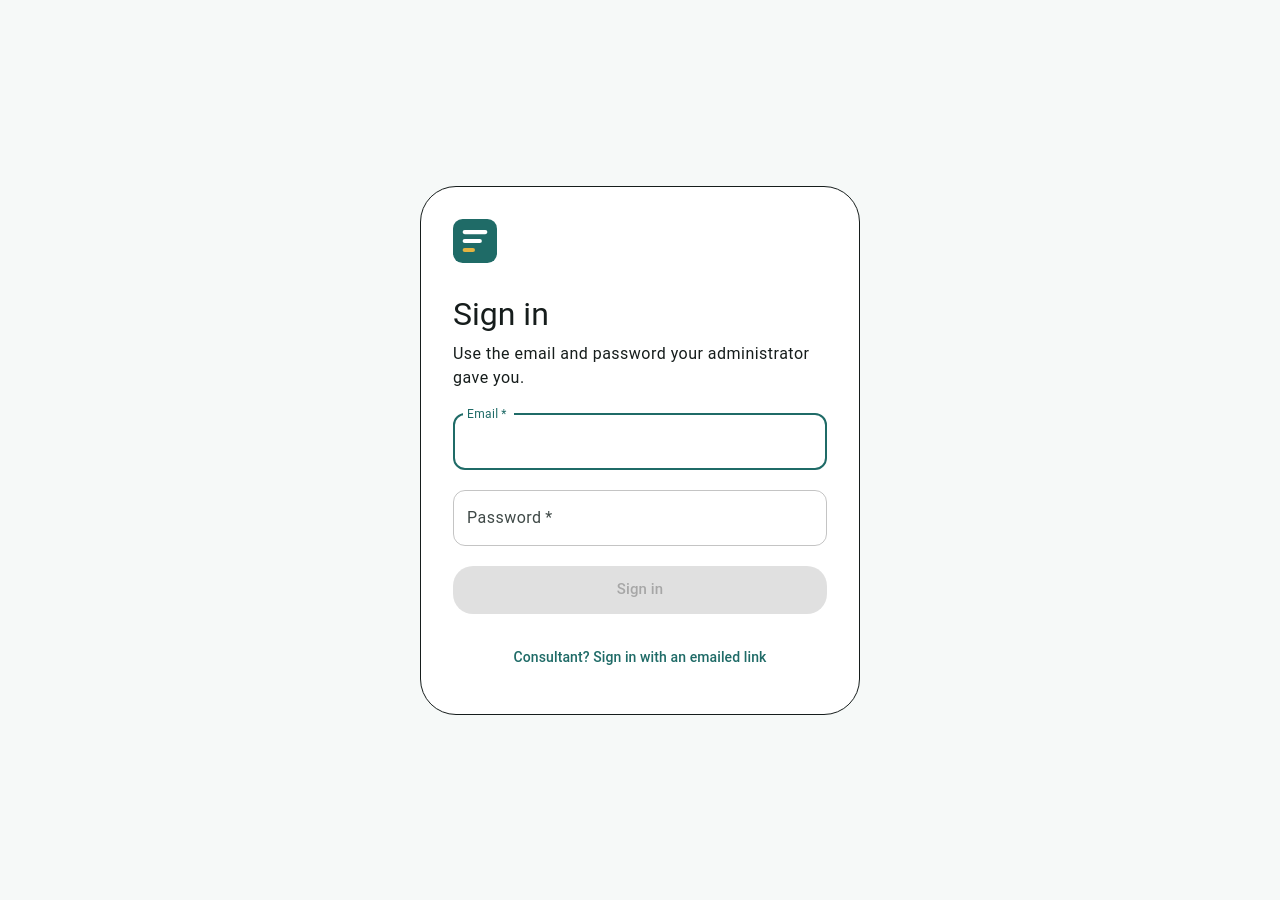
Test case: signing in › signs in with password then code, lands on the page asked for, and then sends the CSRF token on changes
Expected: the heading "Sign in" is shown, [453, 294, 549, 332]
Type "asha@firm.in" into the field labelled "Email *".
click(640, 442); type("asha@firm.in")  # box [453, 414, 827, 470]
Type "a long passphrase" into the password field labelled "Password *".
click(640, 518); type("a long passphrase")  # box [453, 490, 827, 546]
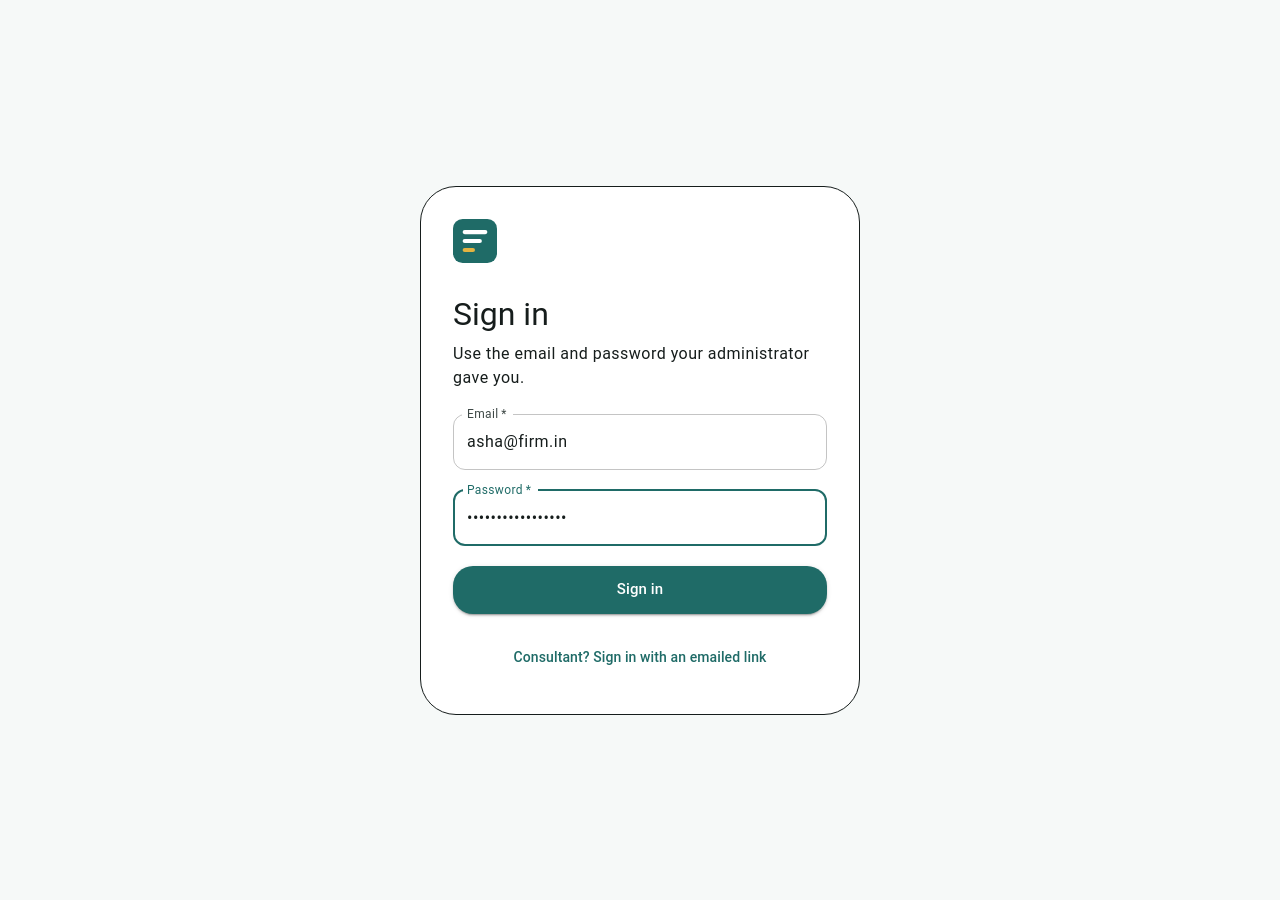
Click the button "Sign in".
click(640, 590)  # box [453, 566, 827, 614]
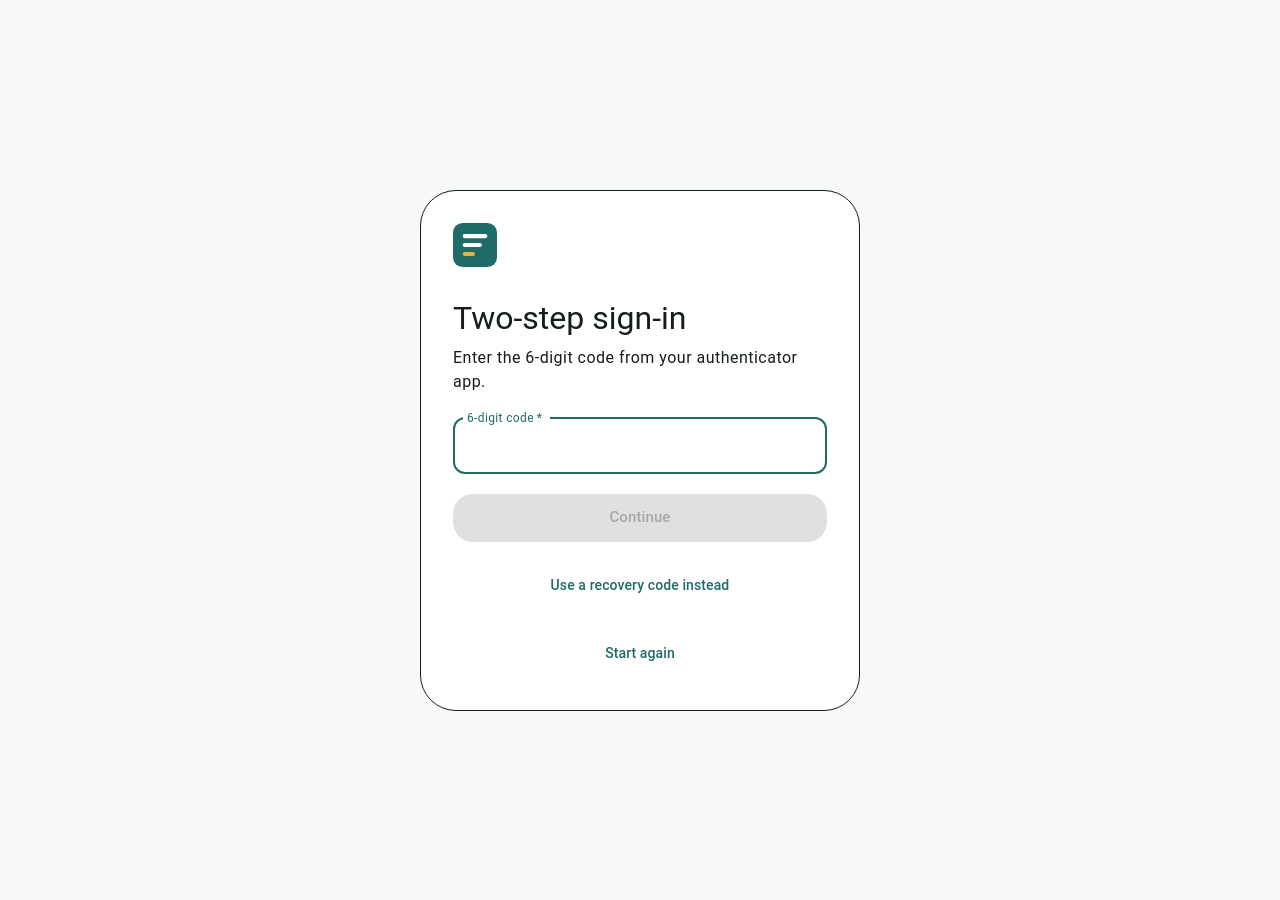
Result: the heading "Two-step sign-in" is shown at [453, 298, 686, 336]
Type "123456" into the field labelled "6-digit code *".
click(640, 446); type("123456")  # box [453, 418, 827, 474]
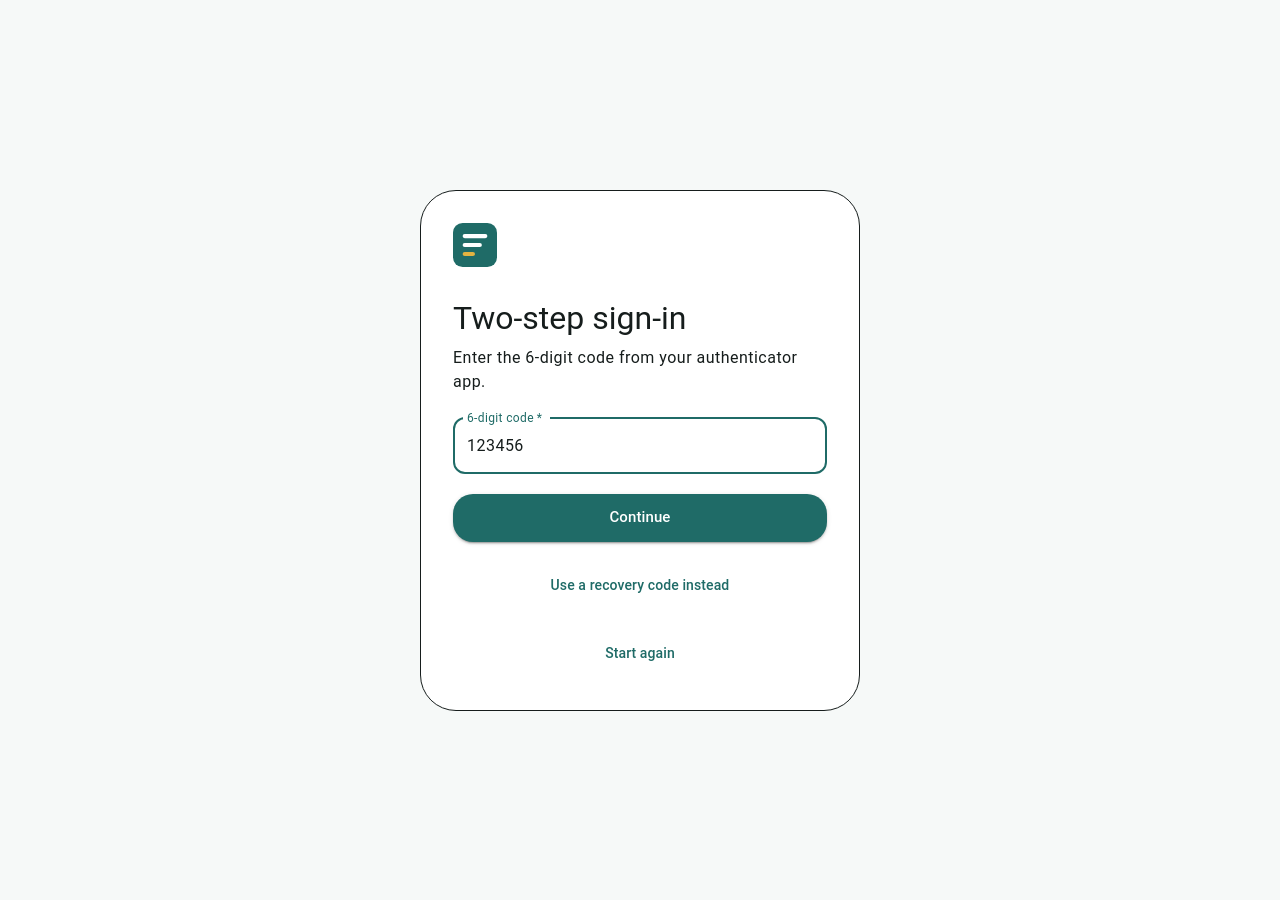
Click the button "Continue".
click(640, 518)  # box [453, 494, 827, 542]
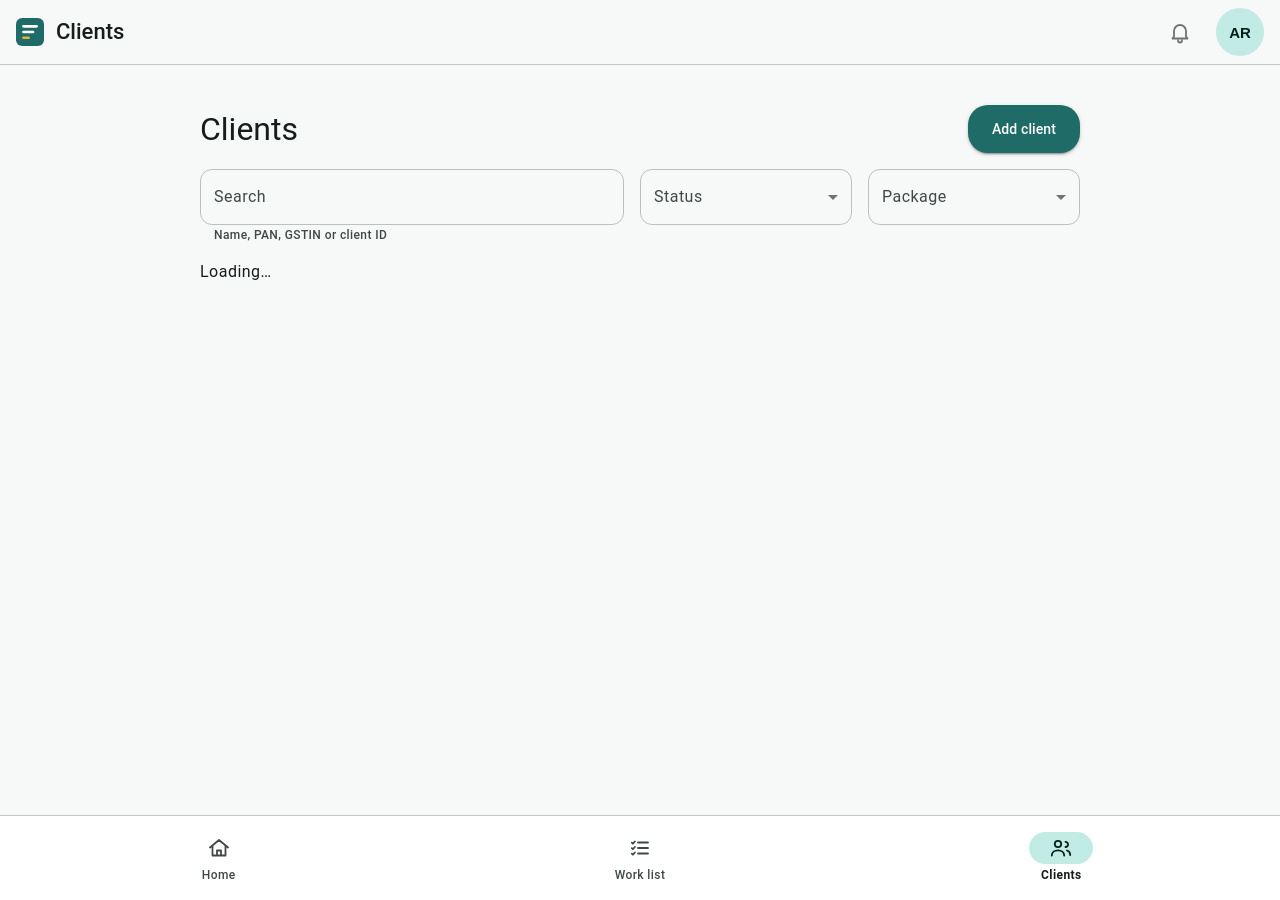
Result: the link "Add client" is shown at [968, 105, 1080, 153]
Click the button with aria-label "account menu for asha rao".
click(1240, 32)  # box [1216, 8, 1264, 56]
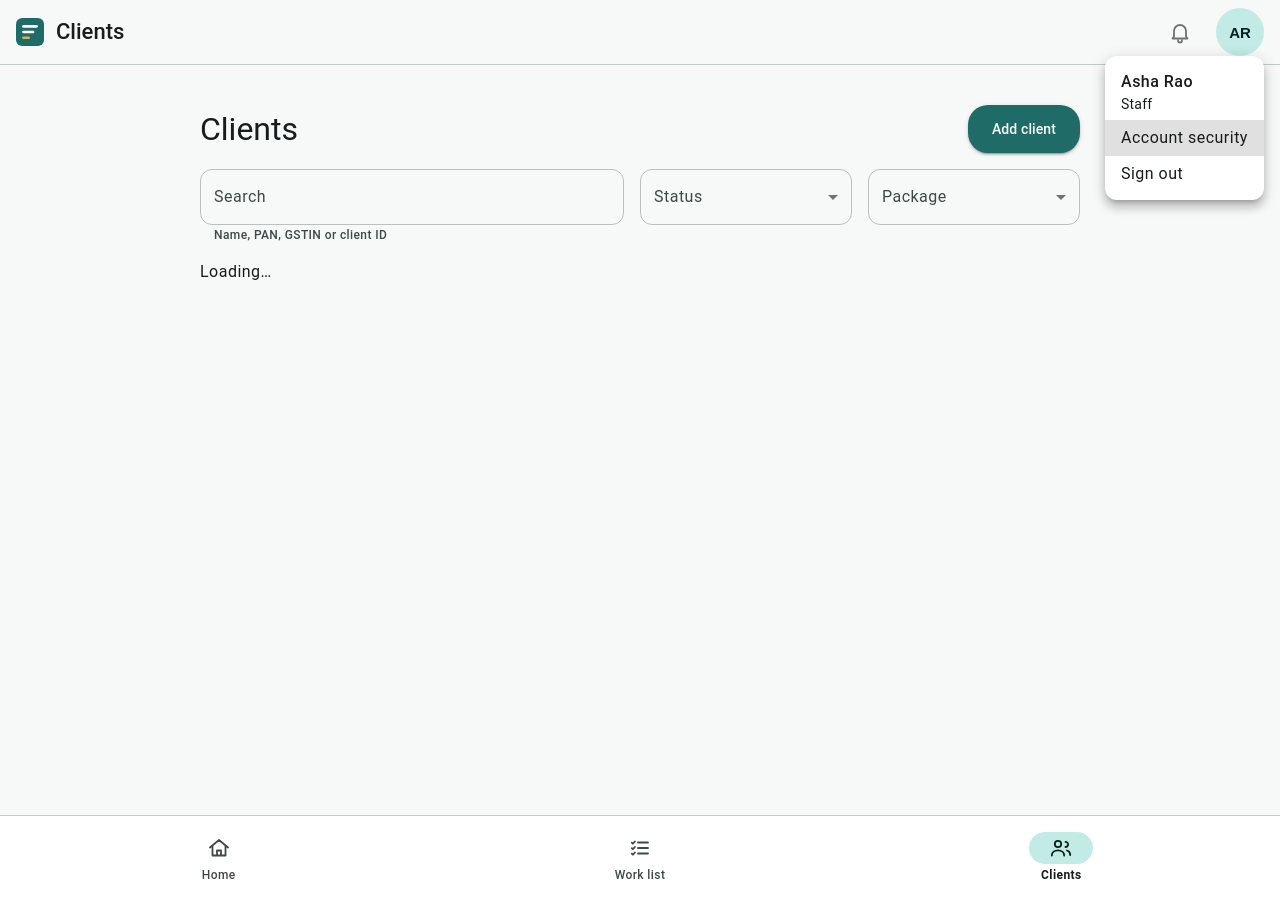
Click the menu item "Sign out".
click(1152, 174)  # box [1121, 164, 1183, 183]
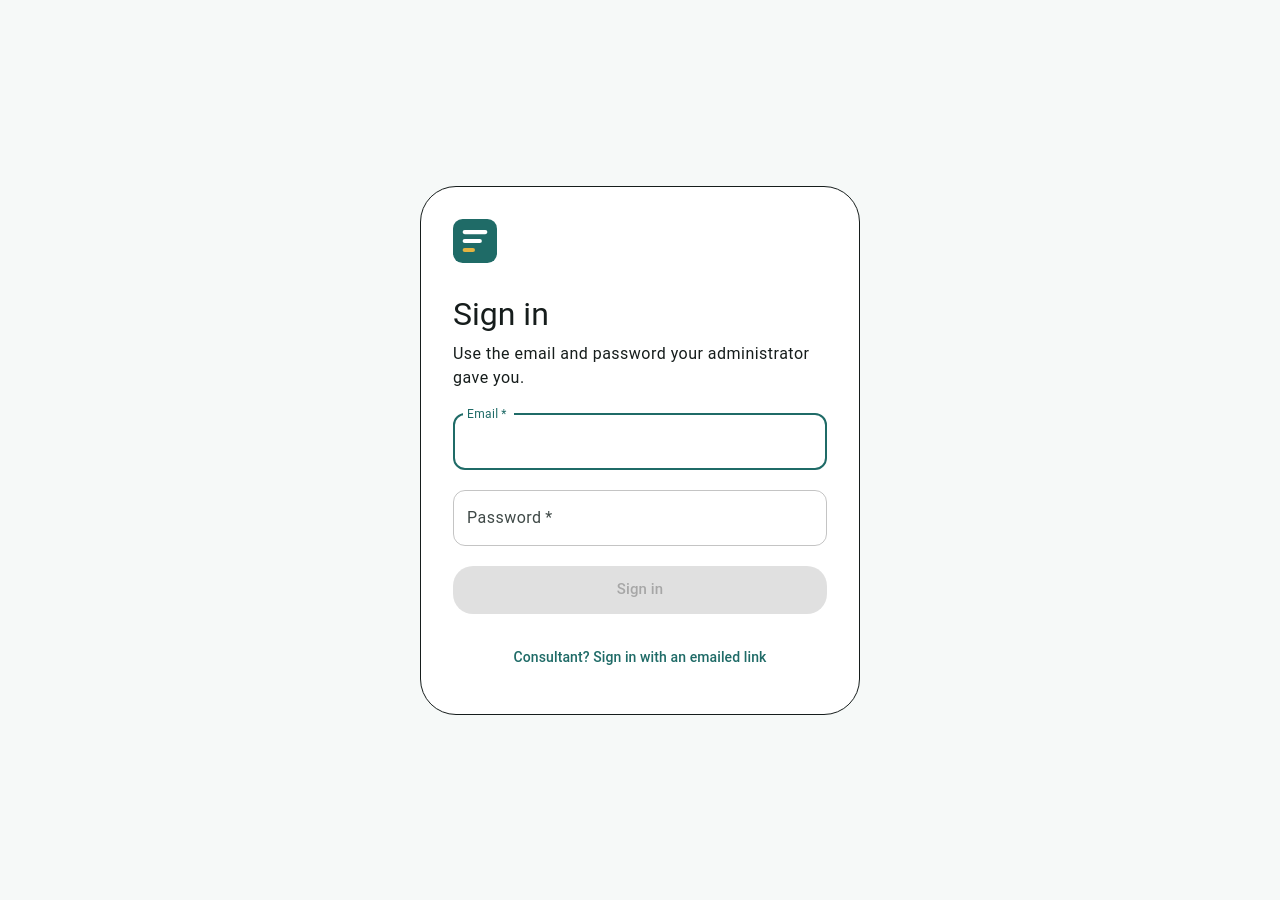
Result: the heading "Sign in" is shown at [453, 294, 549, 332]
